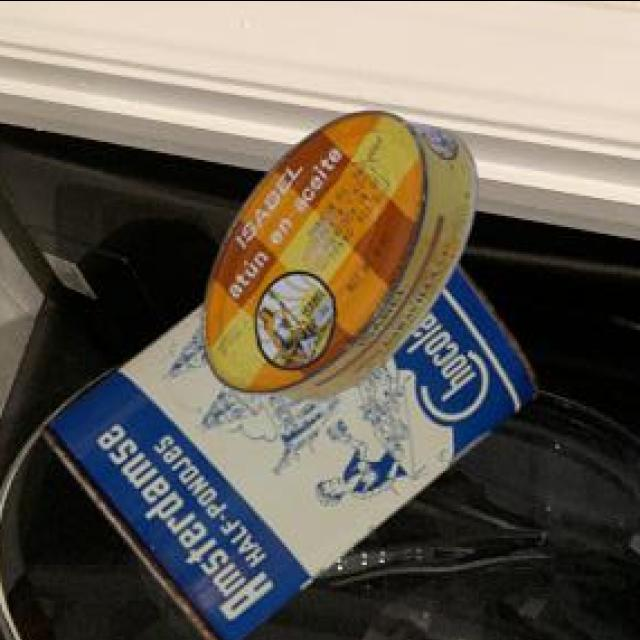logam: (44, 258, 543, 640), (205, 106, 480, 395)
